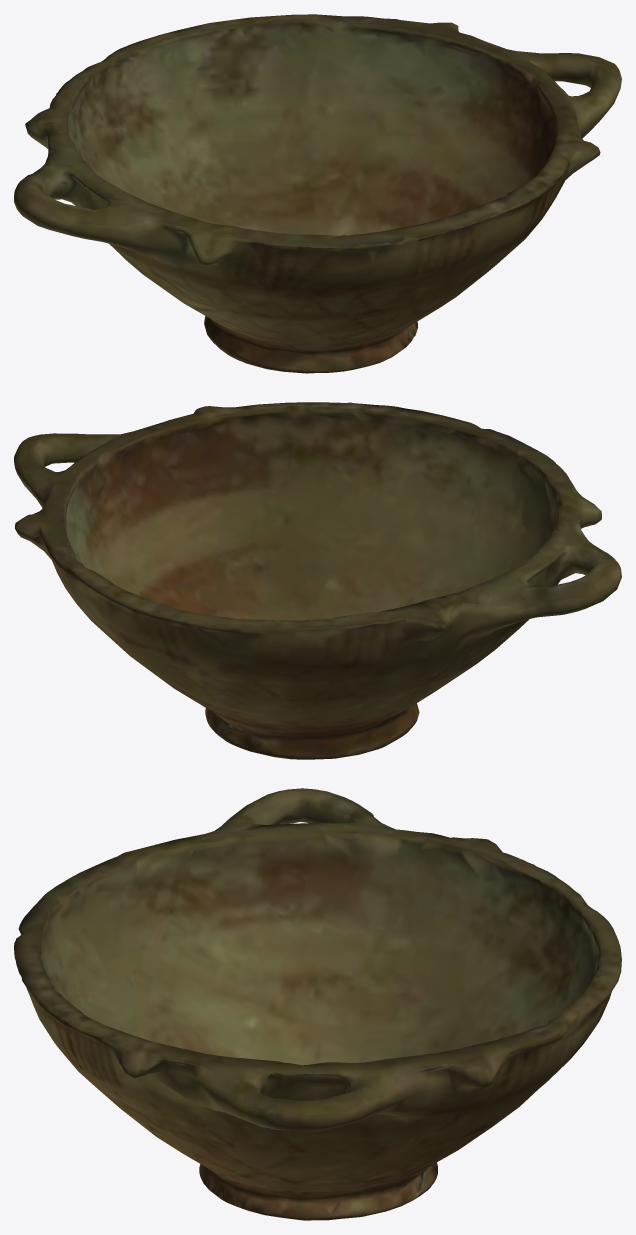
Rendered from si-kylix.lod1.glb.
The picture shows the model from 3 angles, top to bottom: view 1: azimuth 30°, elevation 25°; view 2: azimuth 150°, elevation 25°; view 3: azimuth 270°, elevation 25°; orthographic projection. The views are drawn at different scales.
Parts seen in each view (by area): view 1: sourced_fit; view 2: sourced_fit; view 3: sourced_fit.
Boxes of the visible parts, x1,y1,x2,y2 form: sourced_fit: (14,14,621,373); sourced_fit: (14,402,621,759); sourced_fit: (14,788,621,1220).
Size of the model in its own units: 0.2217 by 0.075 by 0.1782.
1 material, 1 textured.
